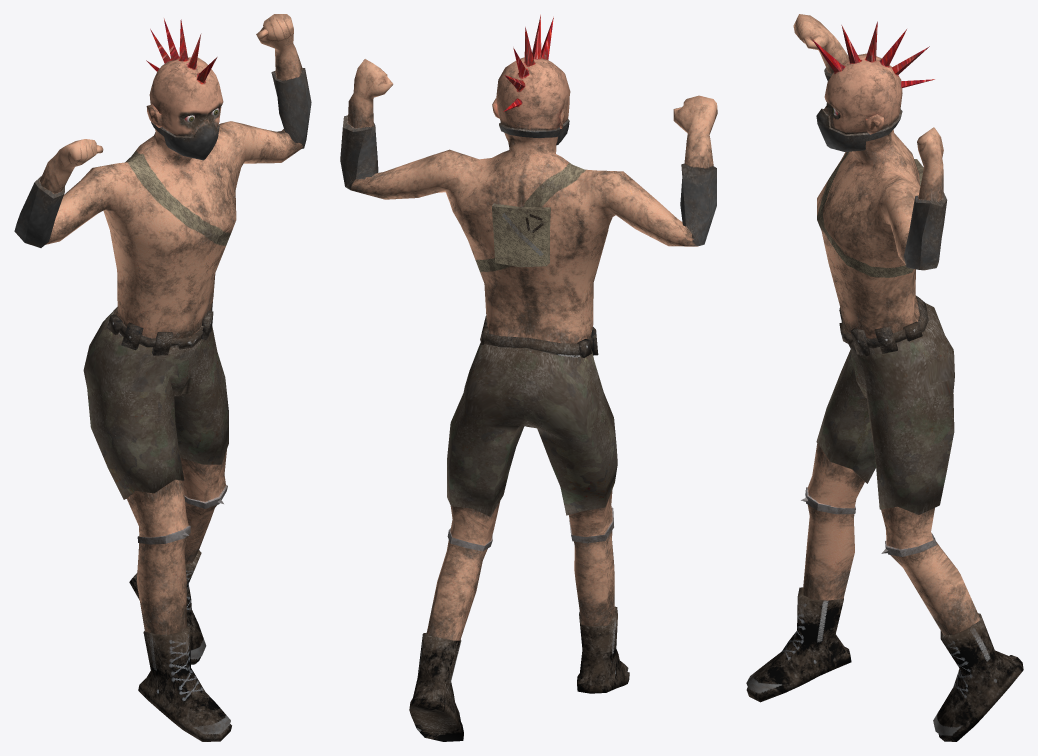
File: Anim_ganar_1_npc2.0037.obj
The picture shows the model from 3 angles, left to right: view 1: azimuth 30°, elevation 25°; view 2: azimuth 150°, elevation 25°; view 3: azimuth 270°, elevation 25°; orthographic projection. The views are drawn at different scales.
Visible parts, largest first — view 1: polySurface1; view 2: polySurface1; view 3: polySurface1.
Boxes of the visible parts, x1=… form: polySurface1: x1=14, y1=14, x2=311, y2=741; polySurface1: x1=340, y1=14, x2=717, y2=741; polySurface1: x1=746, y1=14, x2=1023, y2=741.
Size of the model in its own units: 5.18 by 10.51 by 3.79.
